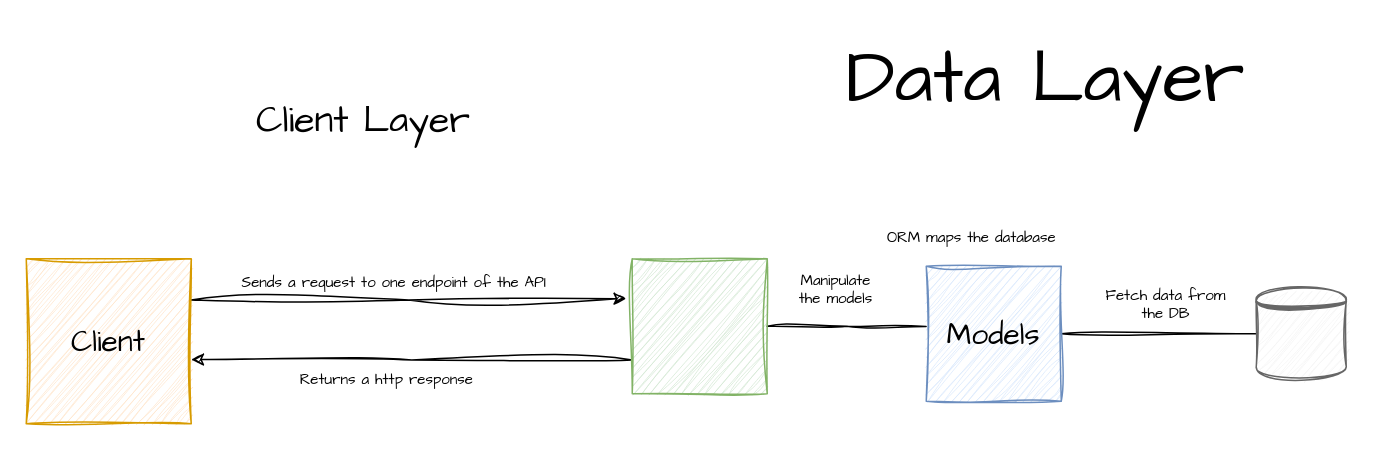
The diagram is 1373 pixels wide and 450 high, and some of its shapes have lost their labels. The box of each missing label's shape, as (x1, y1, x2, y2) in pixels:
DB: (1255, 287, 1346, 379)
Views: (631, 257, 767, 394)
